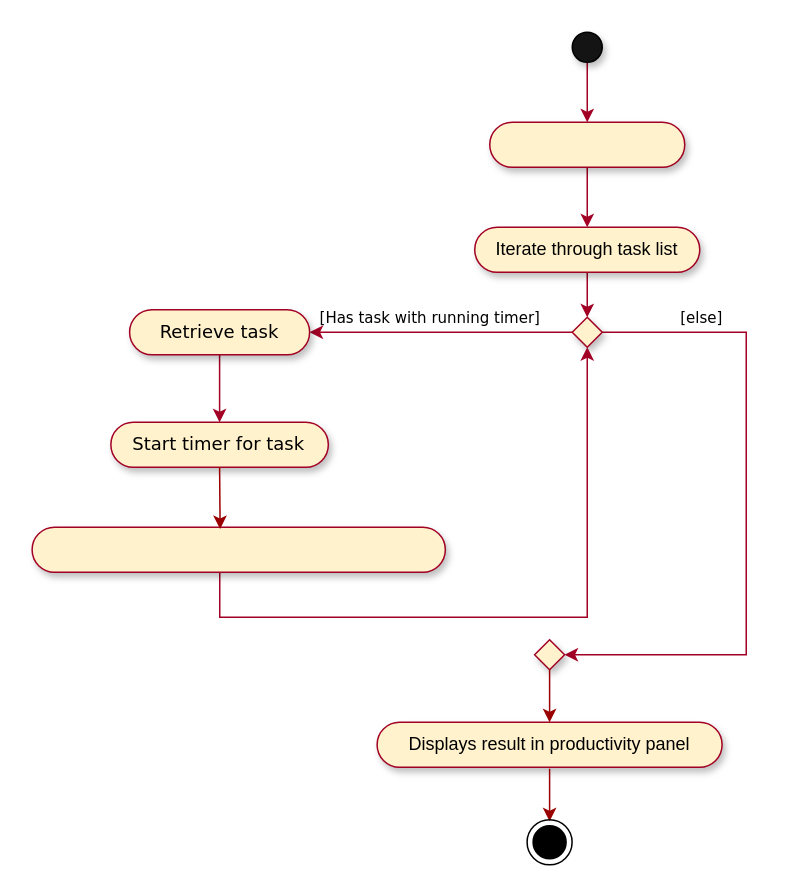
Some shapes in this 786 by 891 pixel diagram are drawn without their labels. The centre of each missing label's shape, as x and y in pixels:
Extract tasks's Description and Deadline: the point at 239,551
Retrieve task list: the point at 588,146
